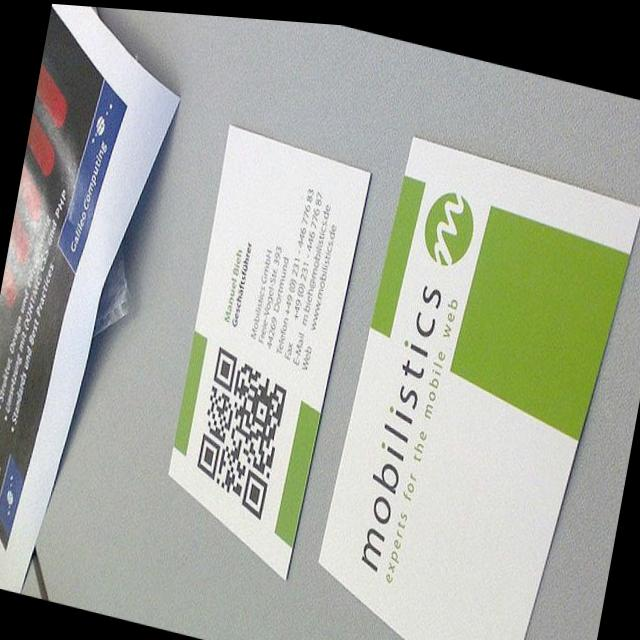qrcode: (191, 342, 291, 518)
